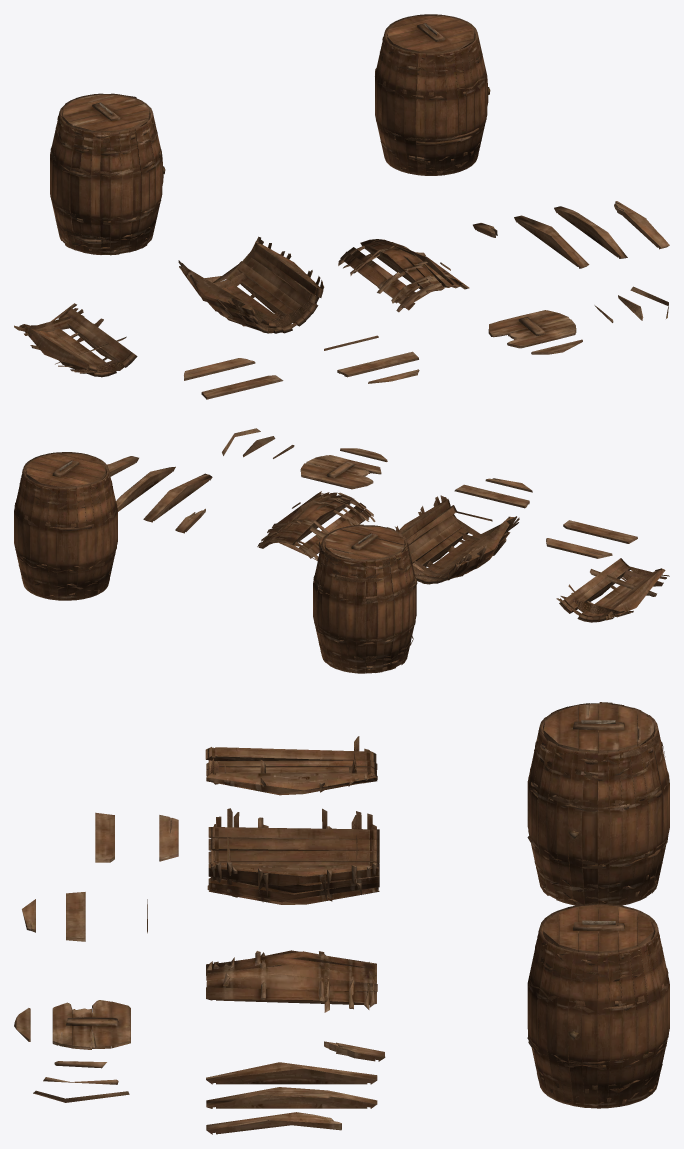
Rendered from assets__ph__wooden_barrels_01.glb.
The picture shows the model from 3 angles, top to bottom: view 1: azimuth 30°, elevation 25°; view 2: azimuth 150°, elevation 25°; view 3: azimuth 270°, elevation 25°; orthographic projection. The views are drawn at different scales.
Parts seen in each view (by area): view 1: wooden_barrels_01_piece01, wooden_barrels_01_barrel01, wooden_barrels_01_barrel02; view 2: wooden_barrels_01_piece01, wooden_barrels_01_barrel02, wooden_barrels_01_barrel01; view 3: wooden_barrels_01_piece01, wooden_barrels_01_barrel01, wooden_barrels_01_barrel02.
Part boxes in pixels (box(x1,y1,x2,y2)): wooden_barrels_01_piece01: box(14, 201, 669, 399); wooden_barrels_01_barrel01: box(375, 14, 490, 175); wooden_barrels_01_barrel02: box(50, 93, 165, 255); wooden_barrels_01_piece01: box(107, 428, 669, 622); wooden_barrels_01_barrel02: box(313, 524, 417, 673); wooden_barrels_01_barrel01: box(14, 452, 117, 600); wooden_barrels_01_piece01: box(14, 736, 385, 1134); wooden_barrels_01_barrel01: box(527, 903, 669, 1108); wooden_barrels_01_barrel02: box(527, 702, 669, 905).
Bounding box in the file's own units: 4.44 × 0.9544 × 3.33.
3 materials, 3 textured.
